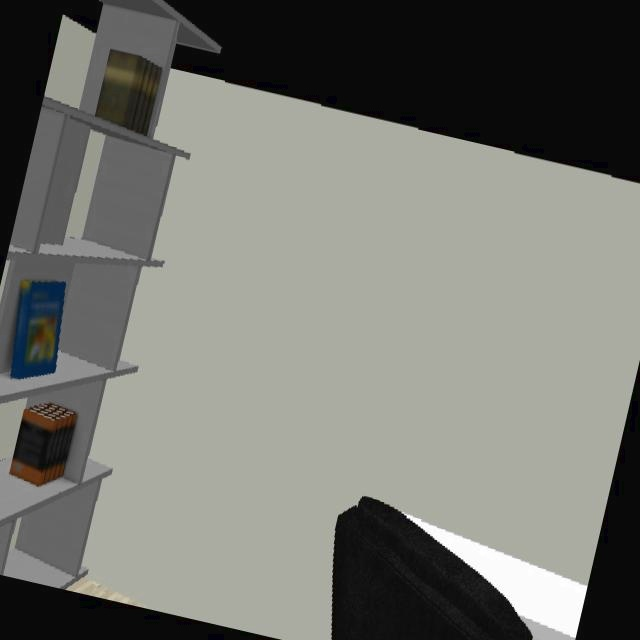book: (3, 278, 66, 382), (93, 49, 162, 136), (9, 406, 77, 488)
bookshelf: (0, 372, 109, 590)
chair: (330, 497, 534, 640)
table: (406, 517, 587, 640)
